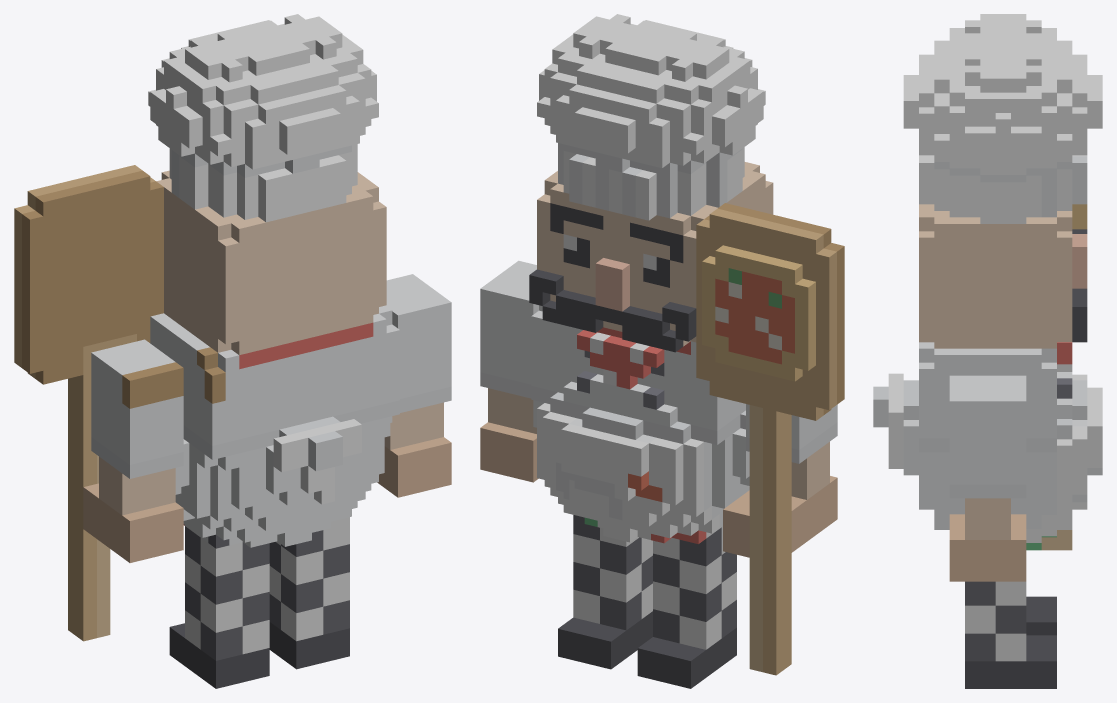
Rendered from PizzaioloTurbino.glb.
3 renders of one model, left to right at view 1: azimuth 30°, elevation 25°; view 2: azimuth 150°, elevation 25°; view 3: azimuth 270°, elevation 25°, orthographic.
Parts seen in each view (by area): view 1: geometry_0; view 2: geometry_0; view 3: geometry_0.
Part boxes in pixels (x1,y1,x2,y2): geometry_0: (14, 14, 451, 688); geometry_0: (480, 14, 844, 688); geometry_0: (873, 14, 1102, 688).
Size of the model in its own units: 0.6364 by 1 by 0.3409.
